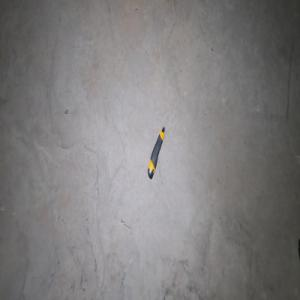Cutter: (147, 126, 165, 179)
